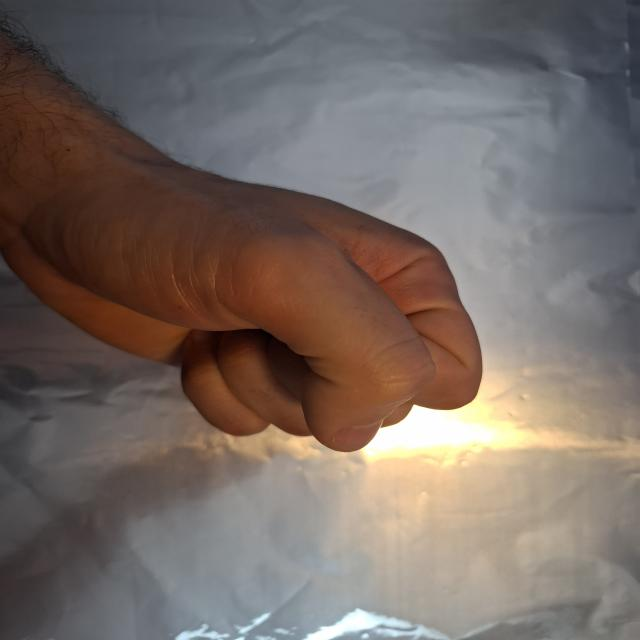glove_off: (7, 146, 486, 454)
